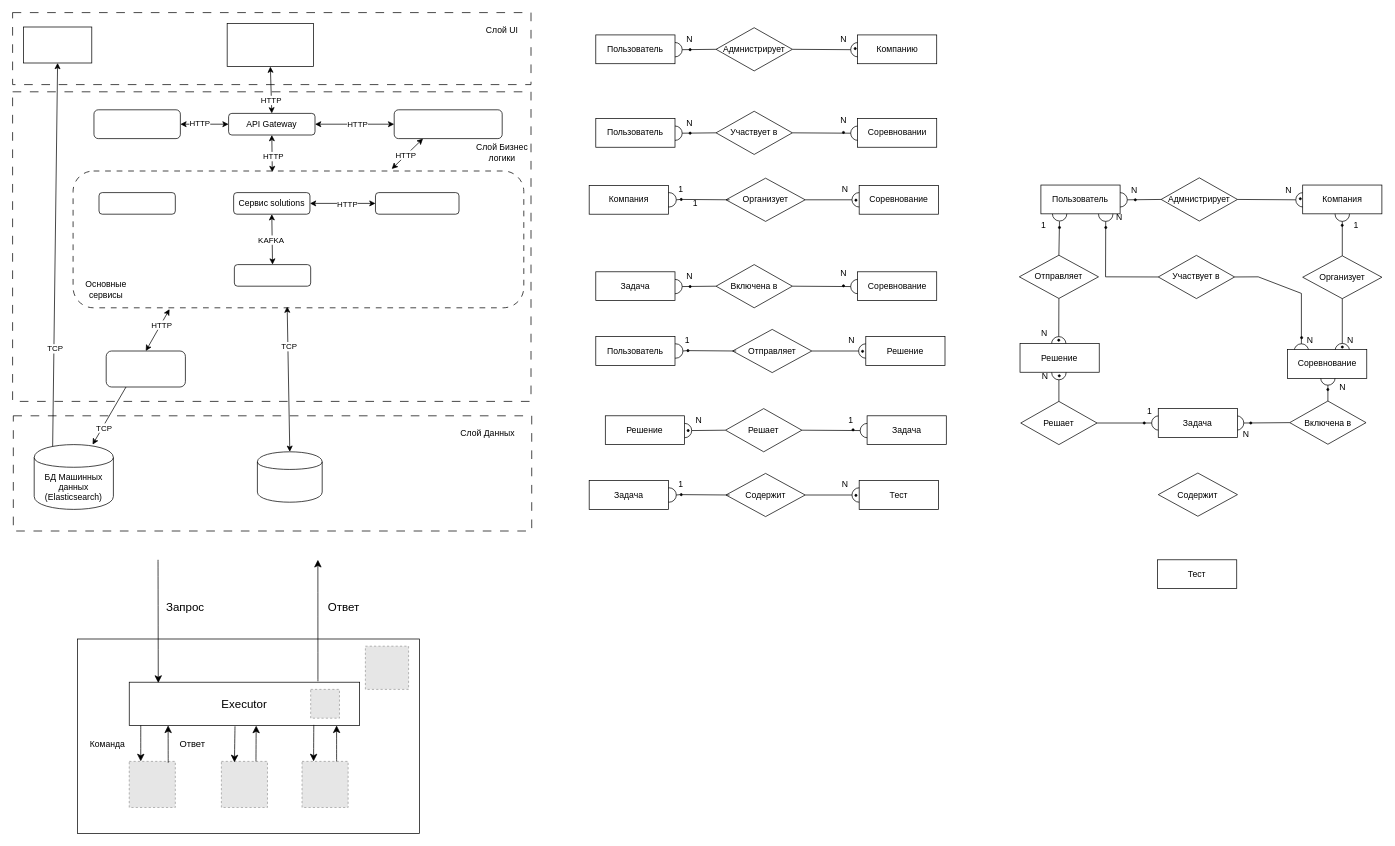
Some shapes in this 1395 by 846 pixel diagram are drawn without their labels. Grey dashed boxes stand in for pictures. Here are the shapes that lost their labels. From the top down, the centre of each, then its label:
[57,44]: Визуализация аналитики (Kibana)
[270,45]: Веб-приложение
[136,124]: Сервис Авторизации и Аунтефикации
[447,124]: Сервис обнаружения служб
[136,203]: Сервис user
[417,203]: Сервис task
[272,275]: Сервис executor
[145,368]: Сервис сбора машинных данных (Logstash/FileBeat)
[289,476]: БД Приложения
